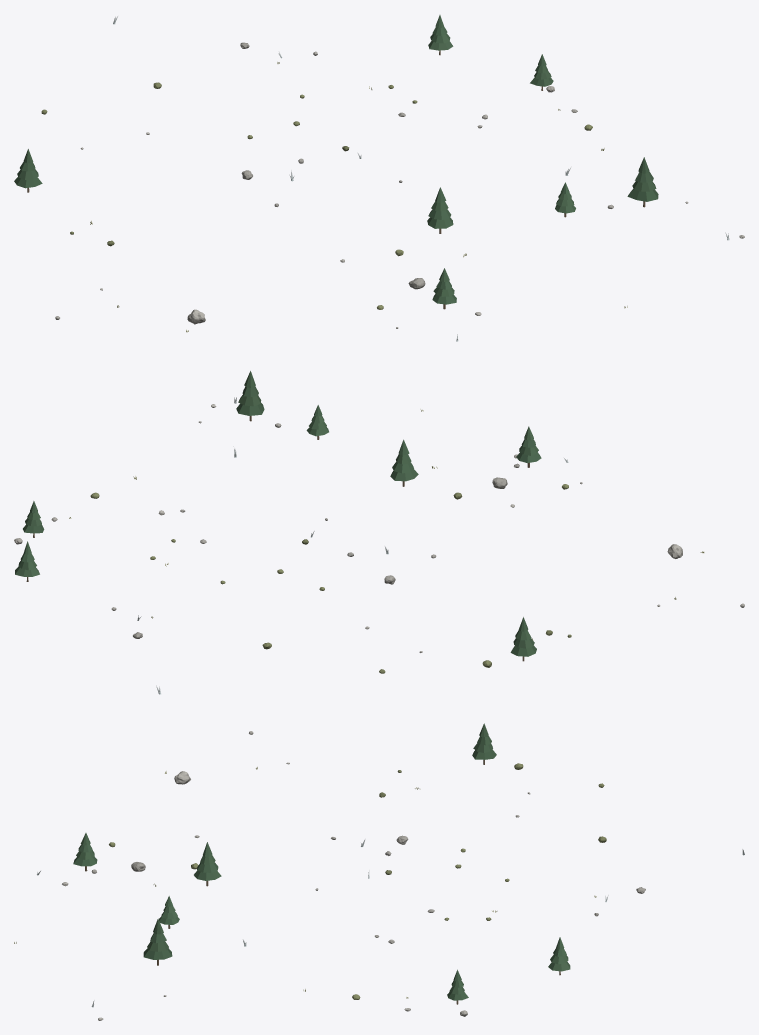
File: coast_land_scatter_c09_19.glb
3 renders of one model, top to bottom at view 1: azimuth 30°, elevation 25°; view 2: azimuth 150°, elevation 25°; view 3: azimuth 270°, elevation 25°, orthographic. The views are drawn at different scales.
Visible parts, largest first — view 1: coast_land_scatter_c09_19; view 2: coast_land_scatter_c09_19; view 3: coast_land_scatter_c09_19.
Boxes of the visible parts, <box> form: coast_land_scatter_c09_19: <box>14,15,744,341</box>; coast_land_scatter_c09_19: <box>14,371,744,694</box>; coast_land_scatter_c09_19: <box>14,723,744,1020</box>.
Size of the model in its own units: 192 by 23 by 210.
